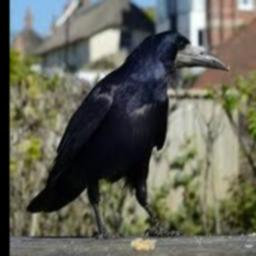Crow: (27, 28, 229, 239)
